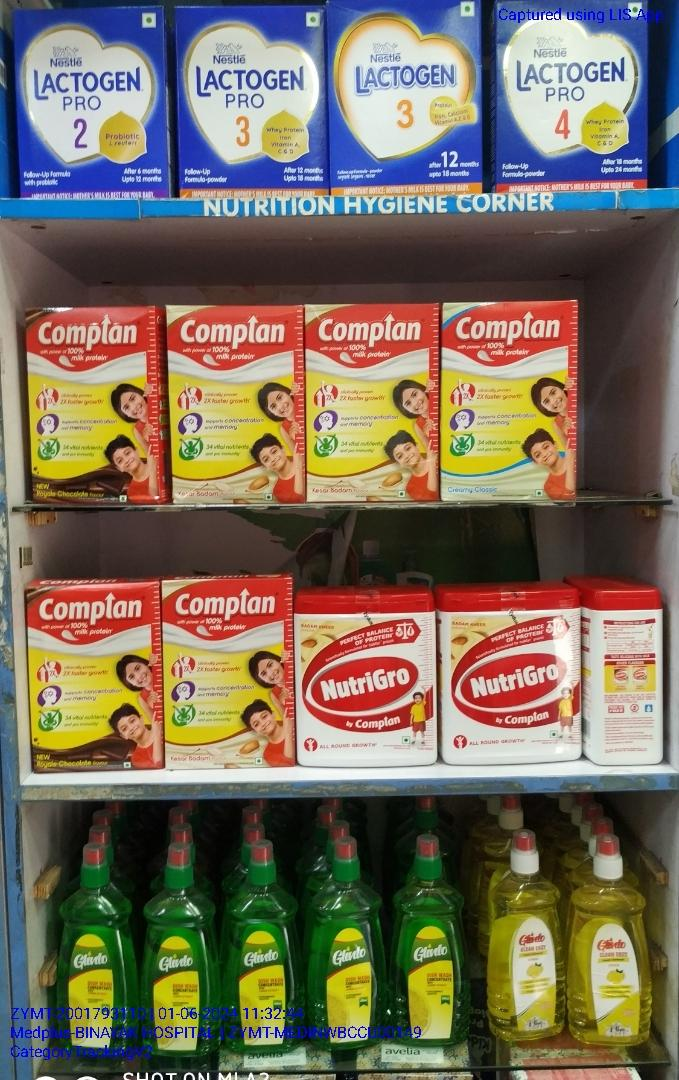COMPLAN_CHOCOLATE_500_GMS_PACK: (440, 299, 577, 504), (27, 309, 164, 506), (29, 590, 162, 768)
COMPLAN_KESAR_BADAM_500_GMS_PACK: (306, 302, 442, 503), (170, 308, 308, 505), (163, 575, 291, 766)
